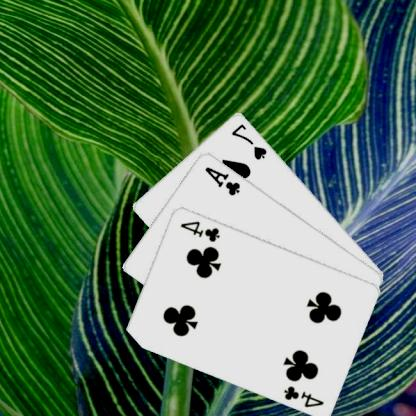4C: (282, 382, 327, 409), (180, 218, 224, 243)
7S: (230, 121, 270, 162)
AC: (203, 163, 244, 197)
